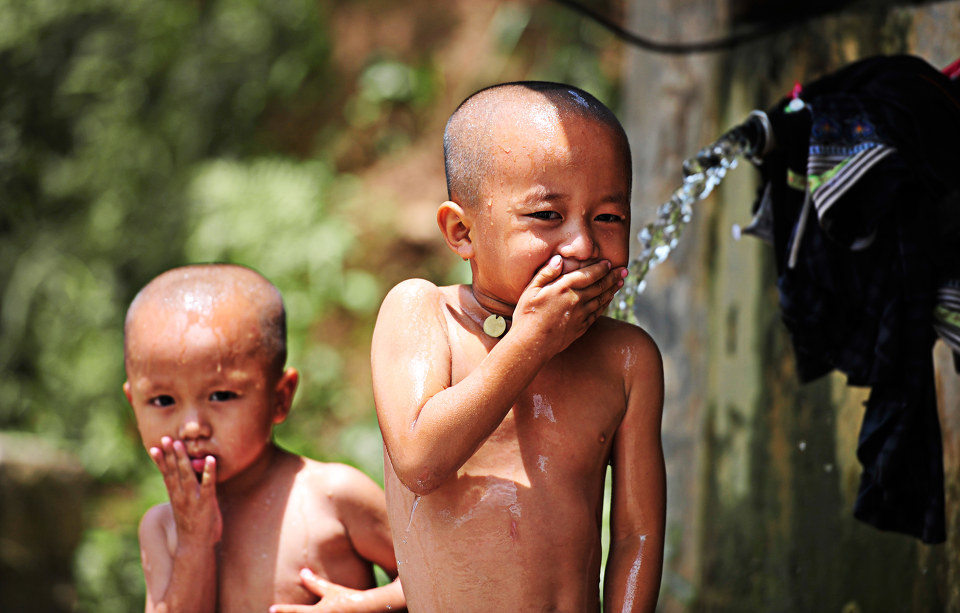face: (465, 127, 634, 315), (131, 312, 271, 485)
